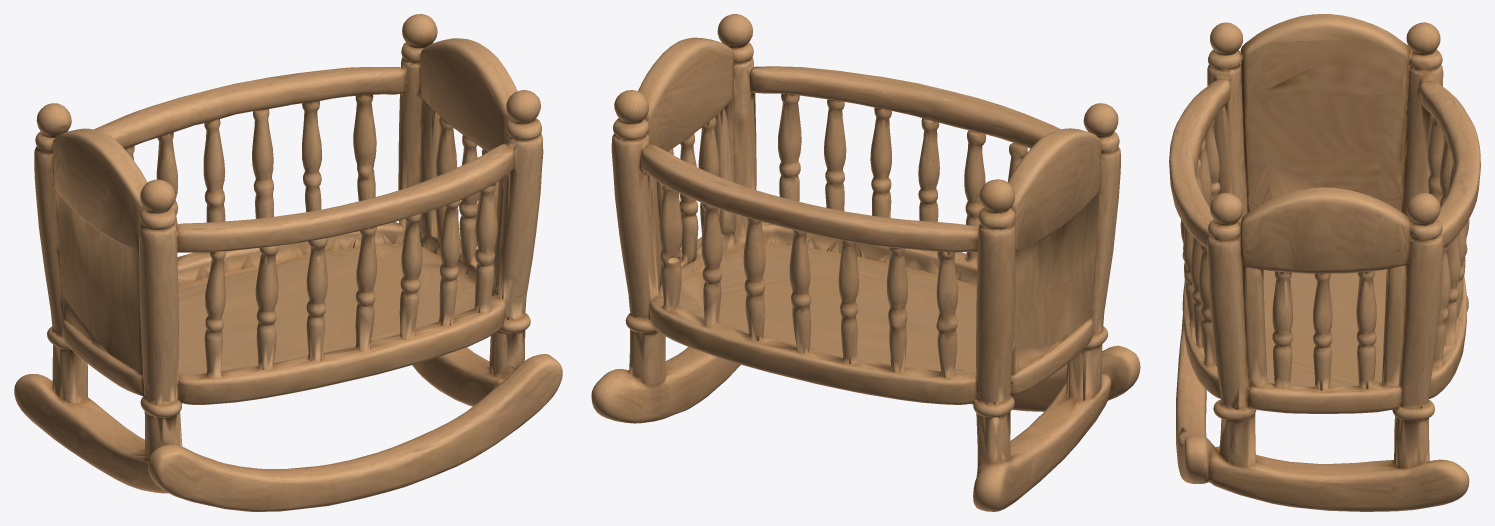
3 views of the same model, side by side, from view 1: azimuth 30°, elevation 25°; view 2: azimuth 150°, elevation 25°; view 3: azimuth 270°, elevation 25° (orthographic). The views are drawn at different scales.
Size of the model in its own units: 1.9 by 1.56 by 1.32.
1 material, 1 textured.
